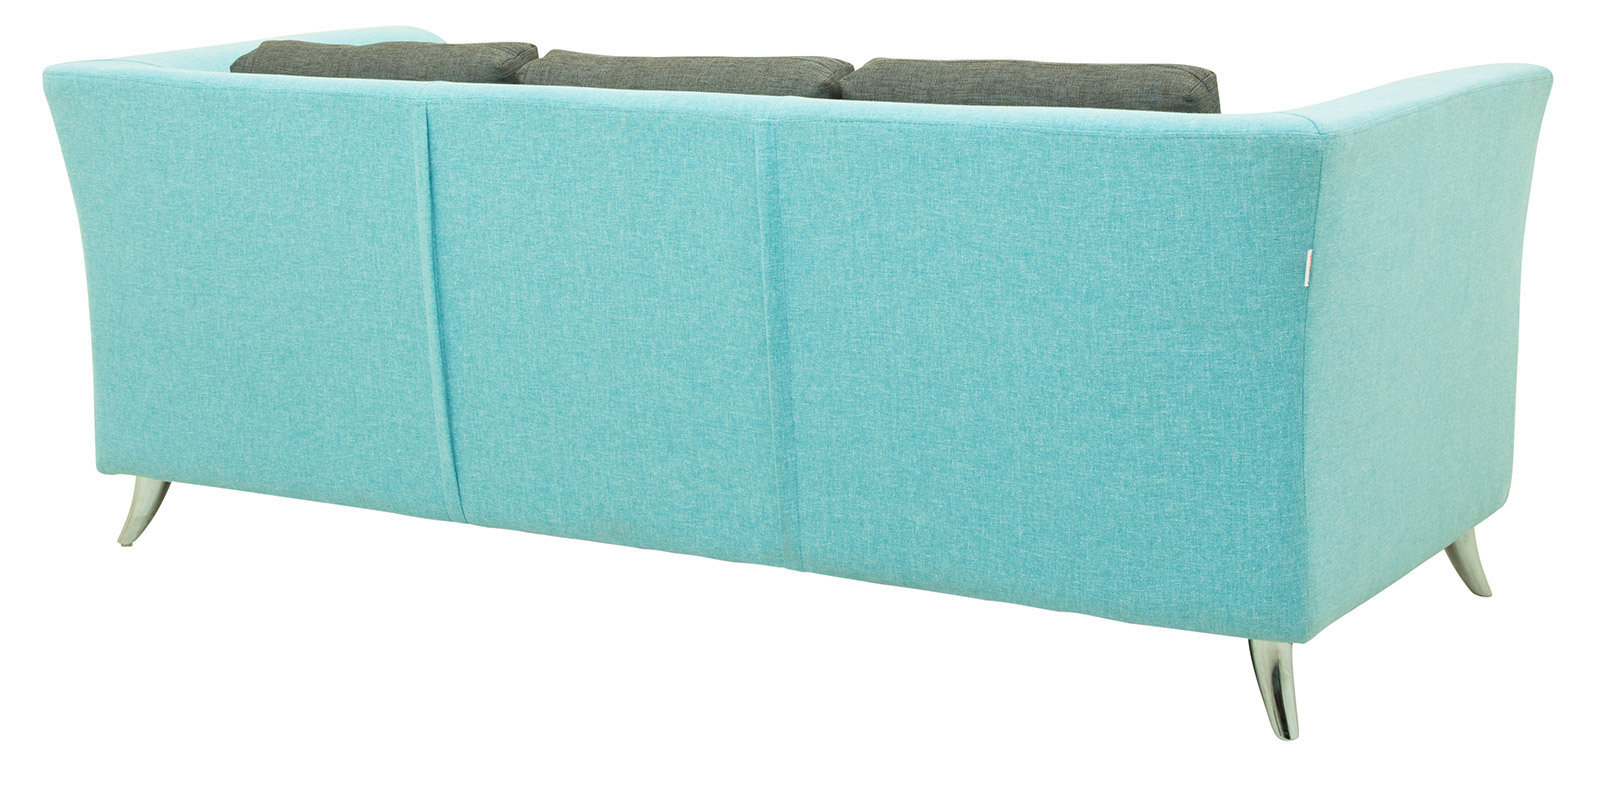Iowa Three Seater Sofa in Celeste Blue Colour by Furnitech: (43, 1, 1540, 760)
